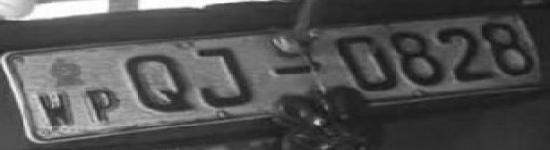-: (269, 62, 316, 79)
0: (323, 30, 408, 99)
2: (424, 22, 504, 87)
8: (377, 25, 456, 91), (472, 17, 545, 83)
P: (78, 86, 124, 128)
Q: (121, 54, 196, 116), (194, 45, 266, 109)
W: (30, 89, 79, 129)
